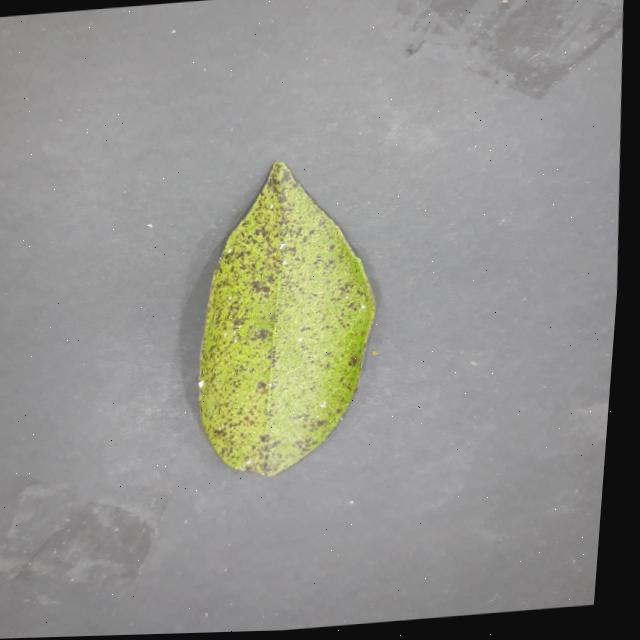greasy_spot: (200, 162, 375, 475)
